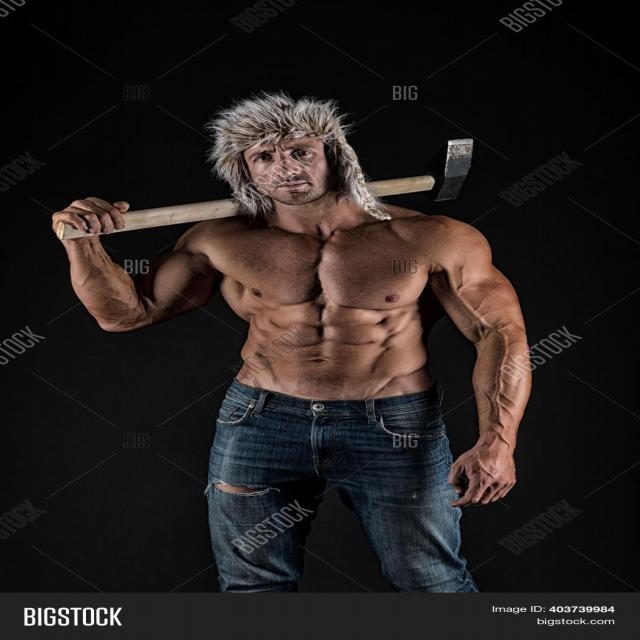hammer: (45, 128, 527, 247)
